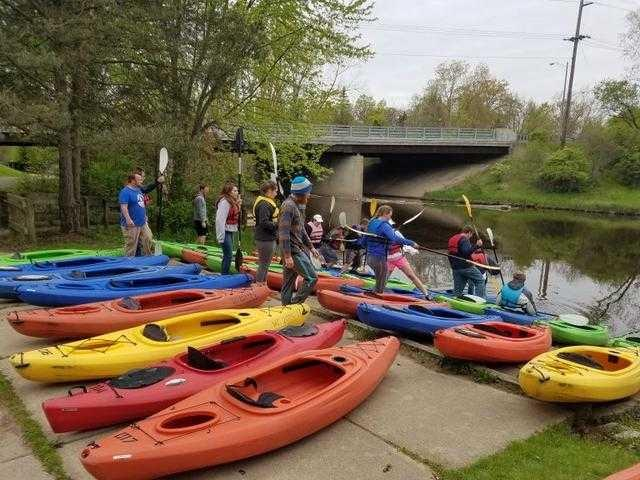kayak: (78, 338, 403, 479), (30, 316, 340, 435), (8, 304, 306, 382), (9, 280, 270, 333), (13, 271, 255, 309), (439, 297, 610, 348), (519, 343, 639, 405), (357, 301, 521, 343), (317, 281, 487, 319), (433, 320, 553, 365), (2, 253, 170, 282)
